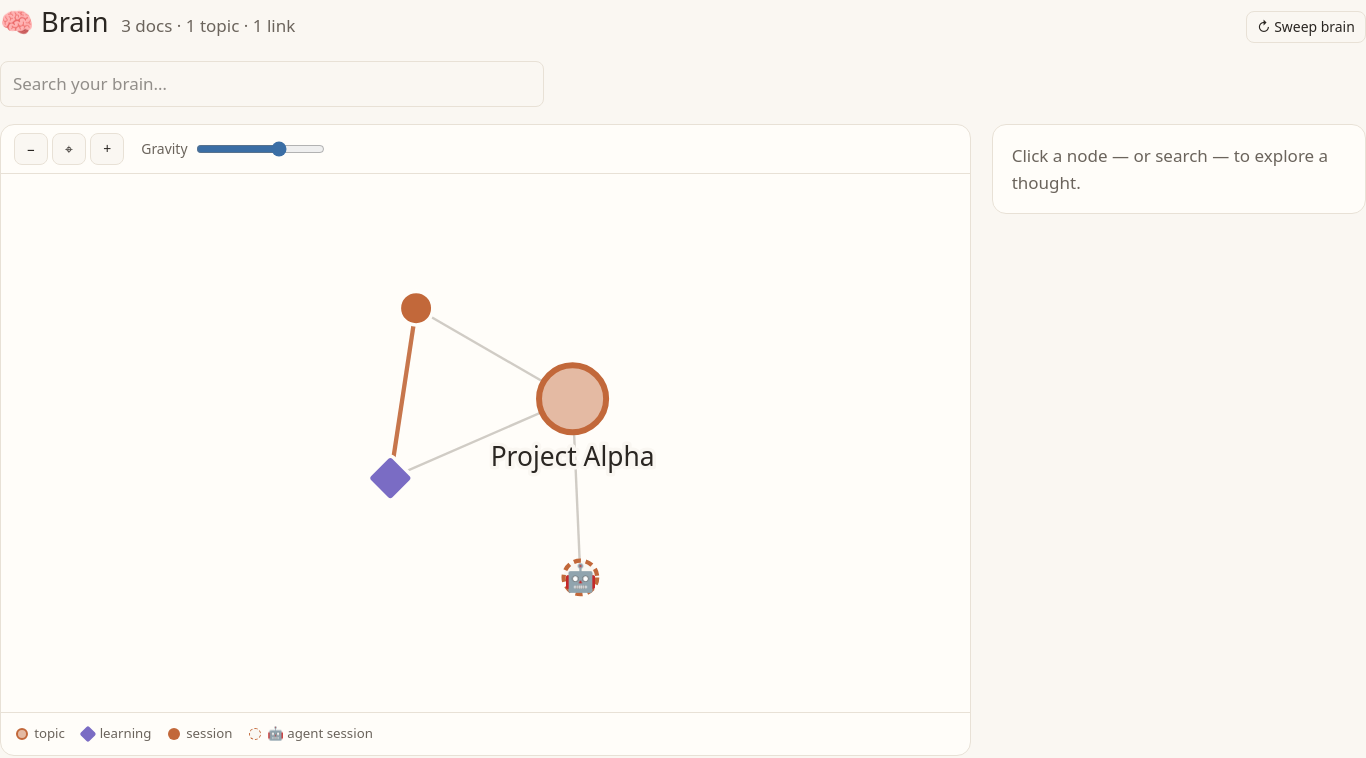
Scenario: BrainView › shows the calm fallback when a topic has no summary yet
This screenshot has width=1366, height=758.
In the field with placeholder "Search your brain…": (272, 84) [0,60,544,107], type "project-alpha"
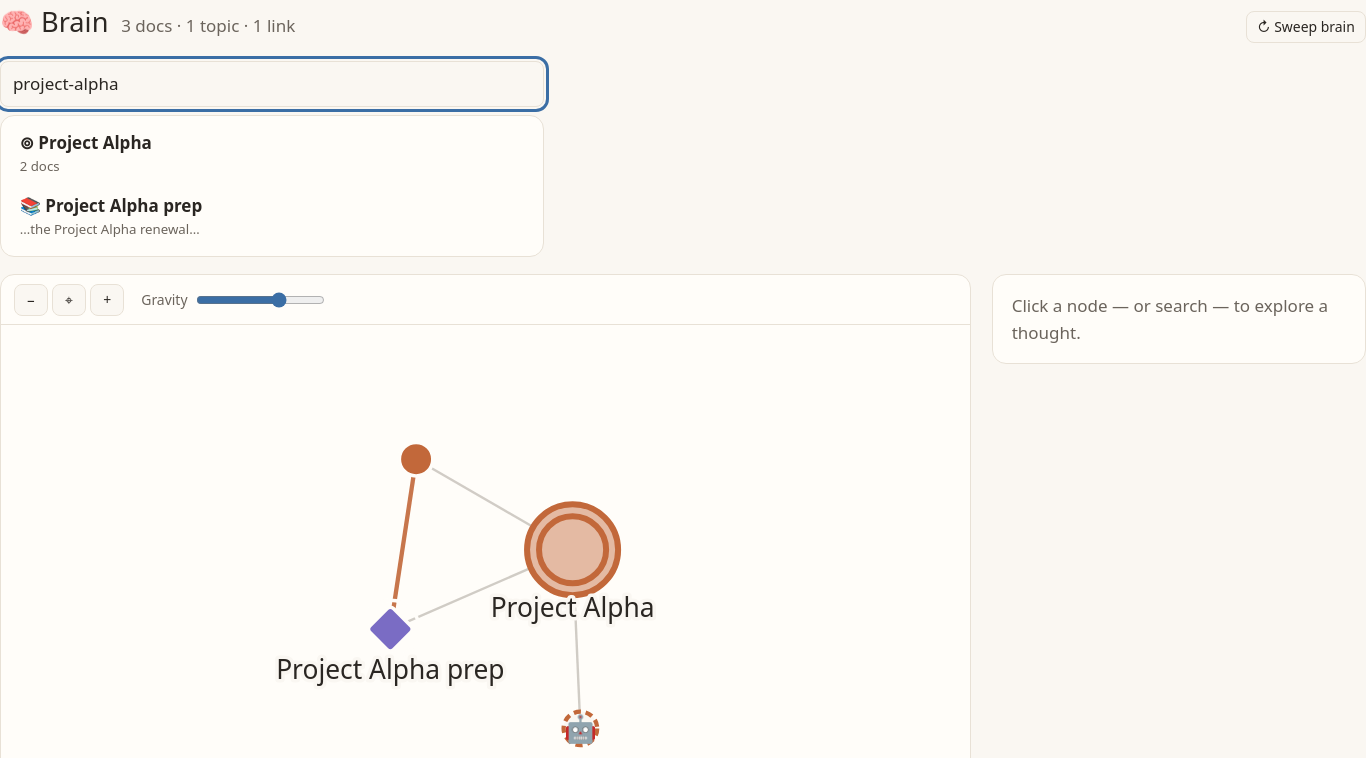
Click the button "⊚ Project Alpha 2 docs": (95, 143) [10,125,534,185]
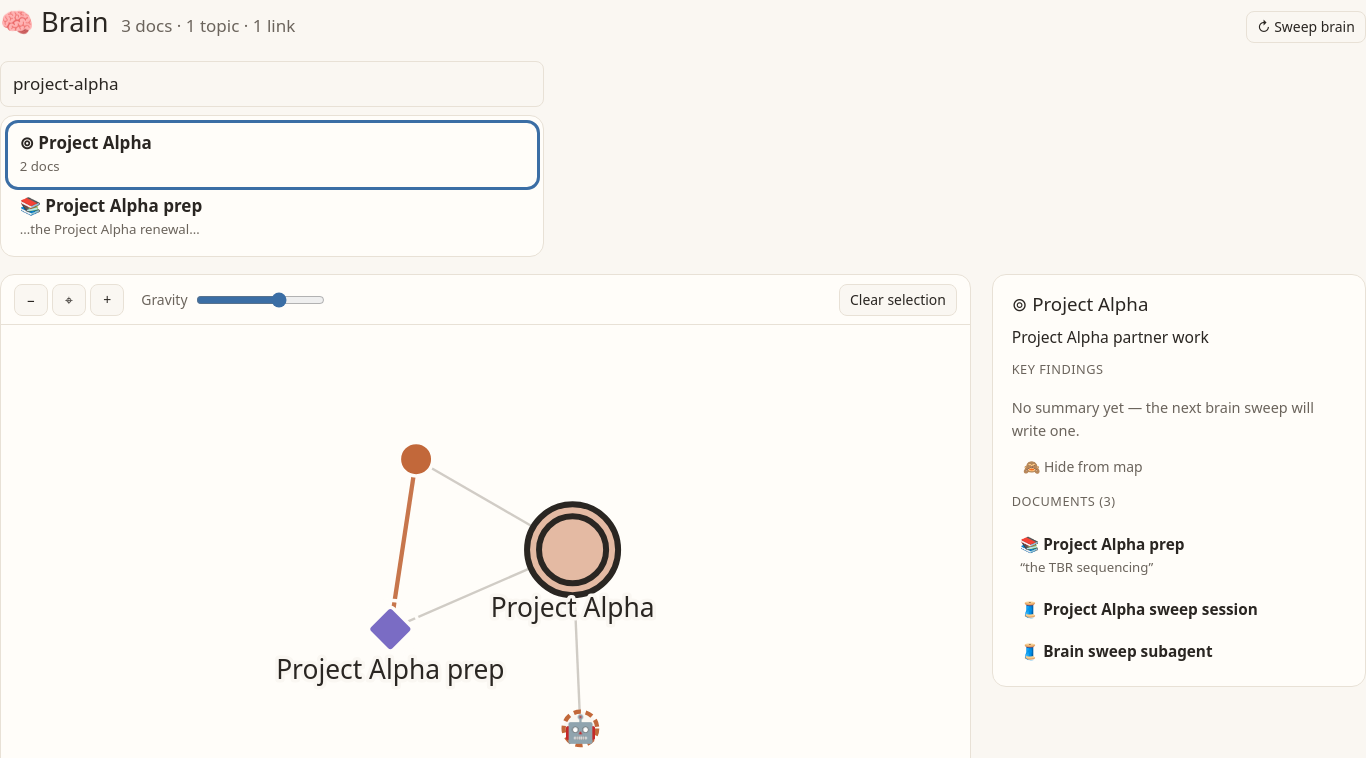
Expected: the text "No summary yet — the next brain sweep will write one." is shown, [1012,396,1346,442]
